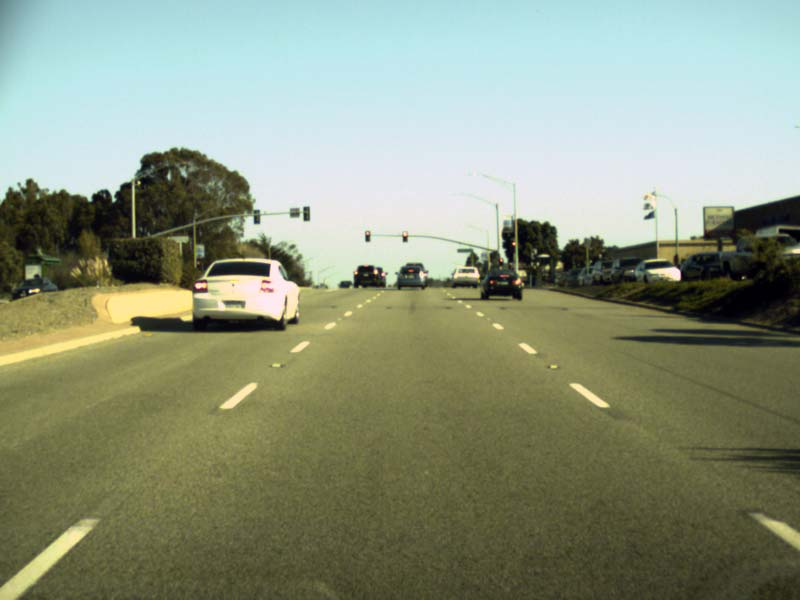Red: (509, 237, 516, 253), (364, 230, 370, 242), (402, 231, 408, 242), (498, 258, 502, 265)
